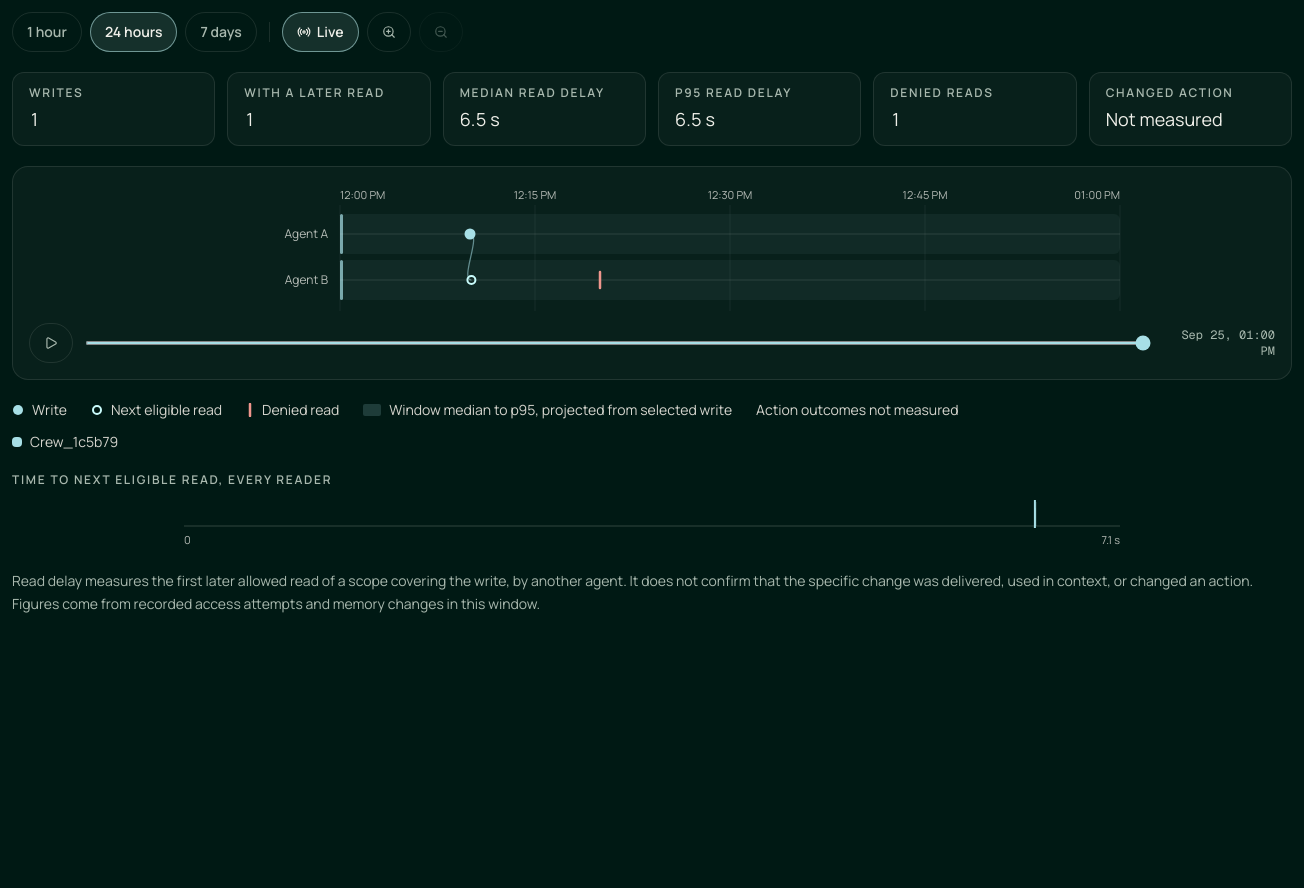
Test case: AuditTimeline › exposes labeled write controls inside a group and opens them with the keyboard
The image size is (1304, 888).
Press Enter in the button "Inspect create fact f1 by Agent A", box 464,228 -> 476,240
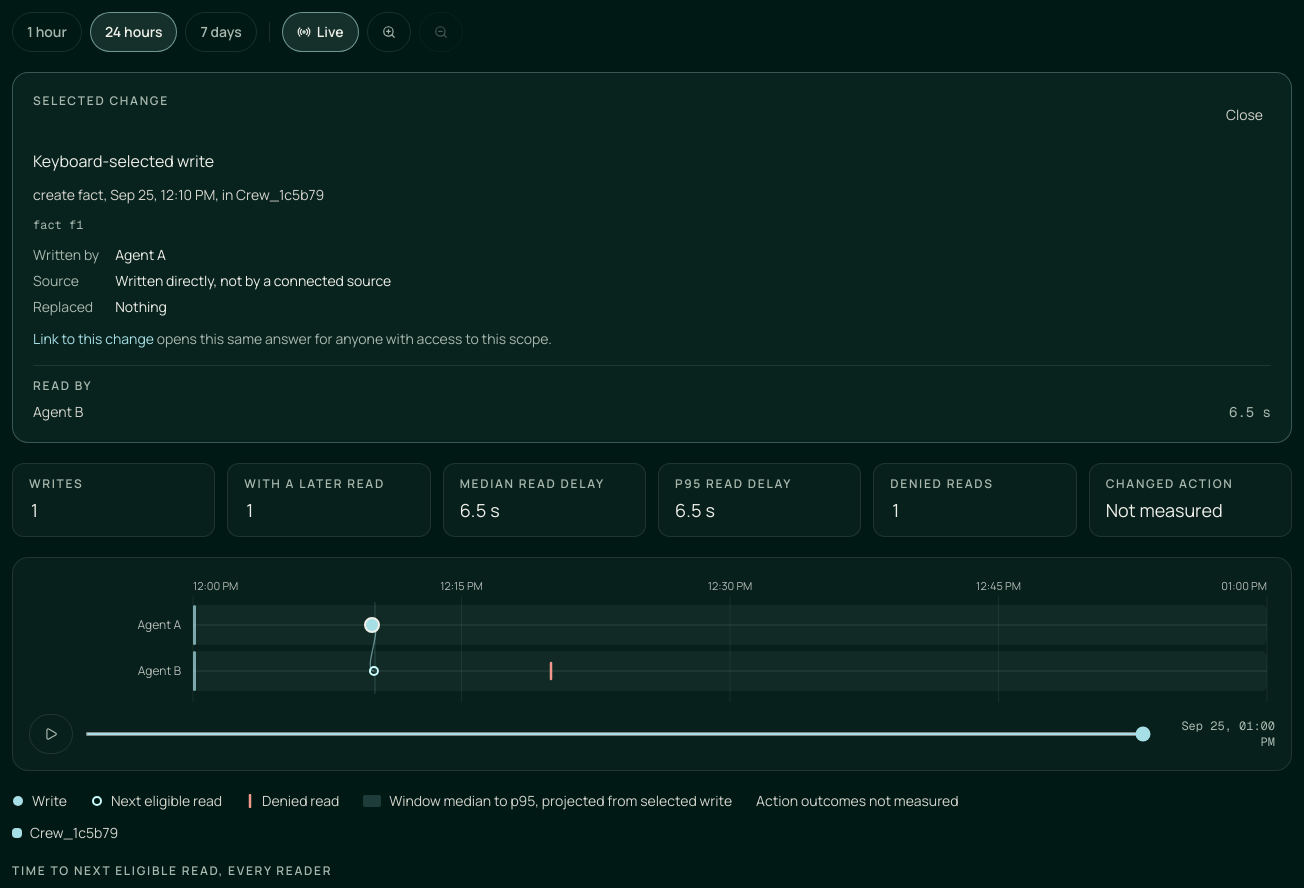
Check: the text "Keyboard-selected write" is shown, box 33,150 -> 214,172
Click the button "Close" at (1244, 115), box 1218,93 -> 1271,137
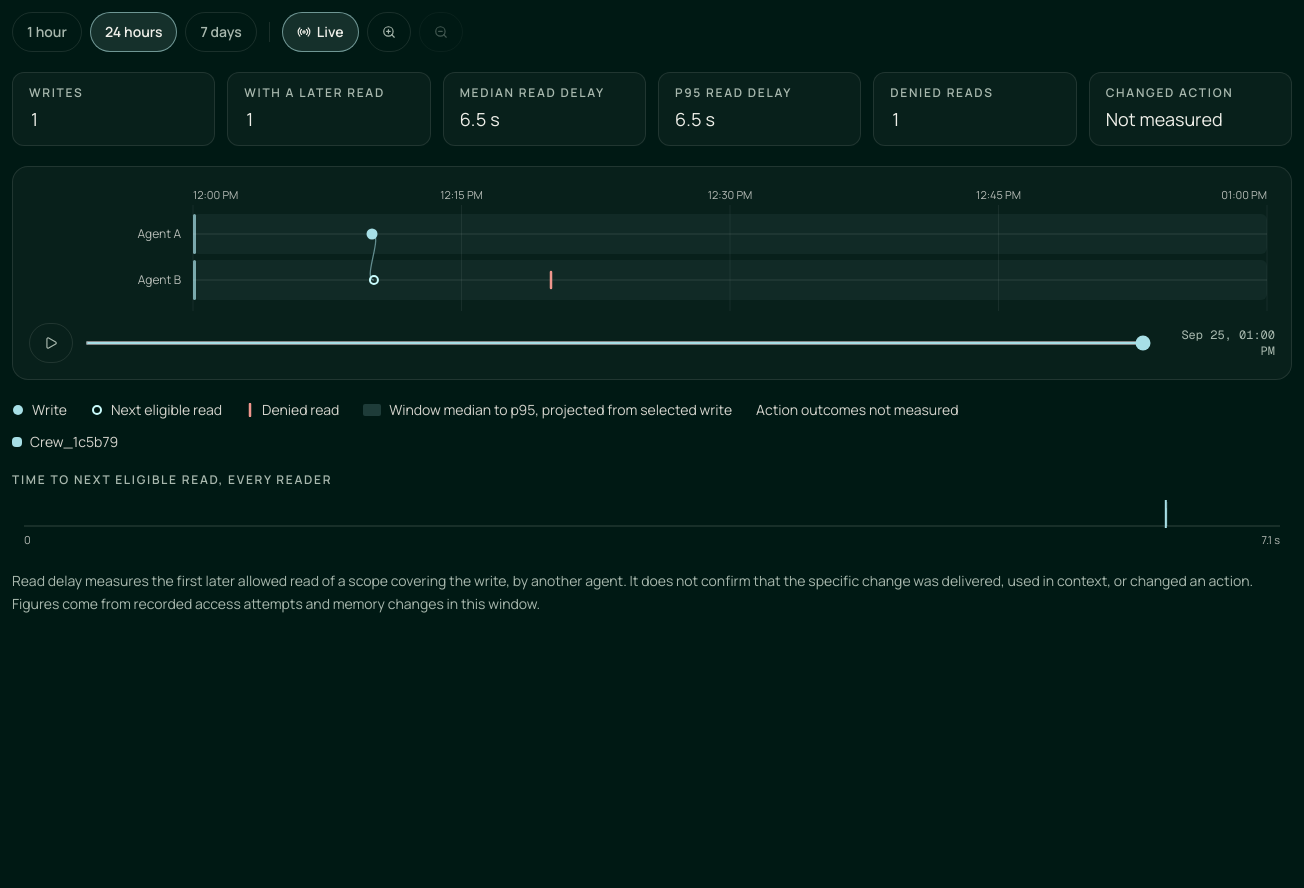
Press Space in the button "Inspect create fact f1 by Agent A", box 366,228 -> 378,240
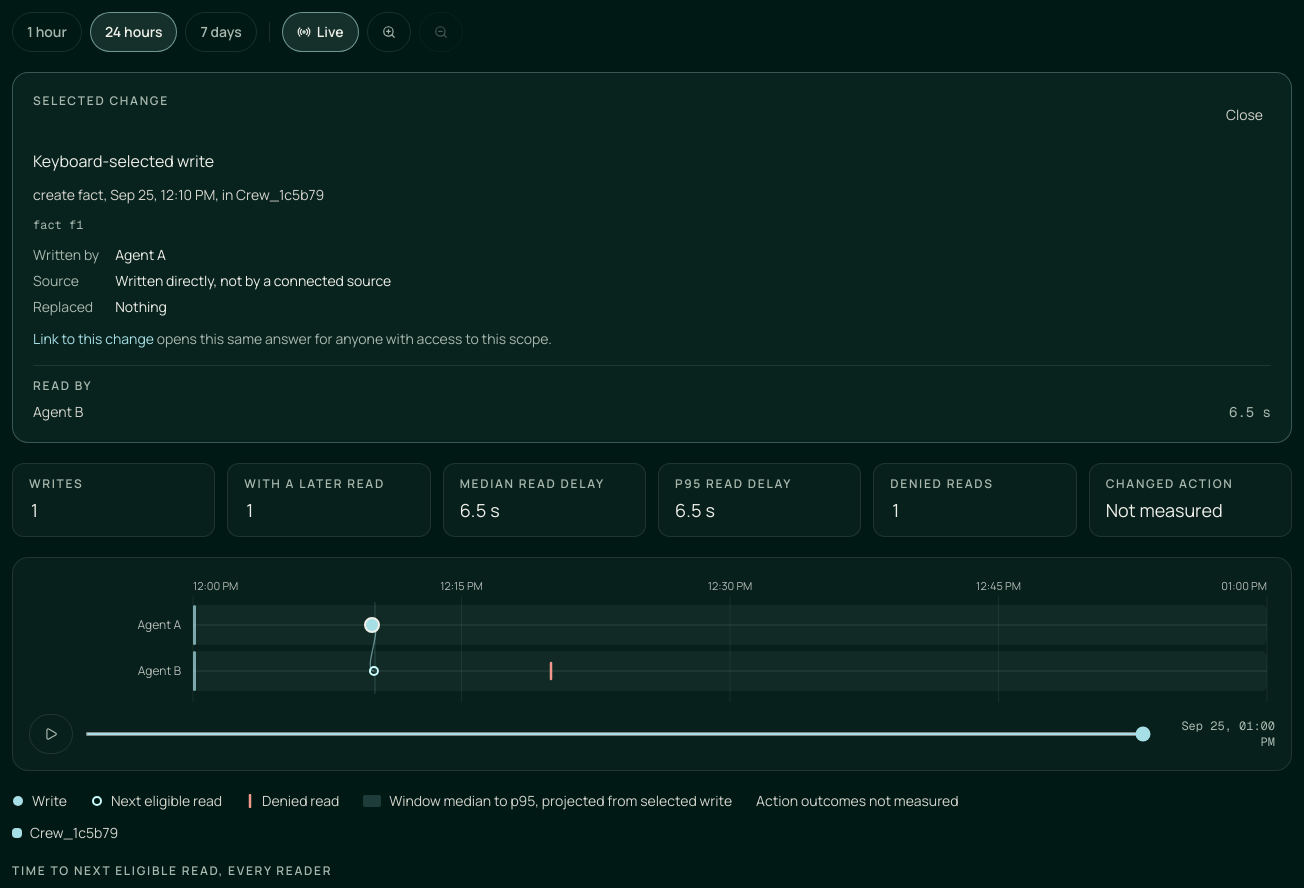
Check: the text "Keyboard-selected write" is shown, box 33,150 -> 214,172
